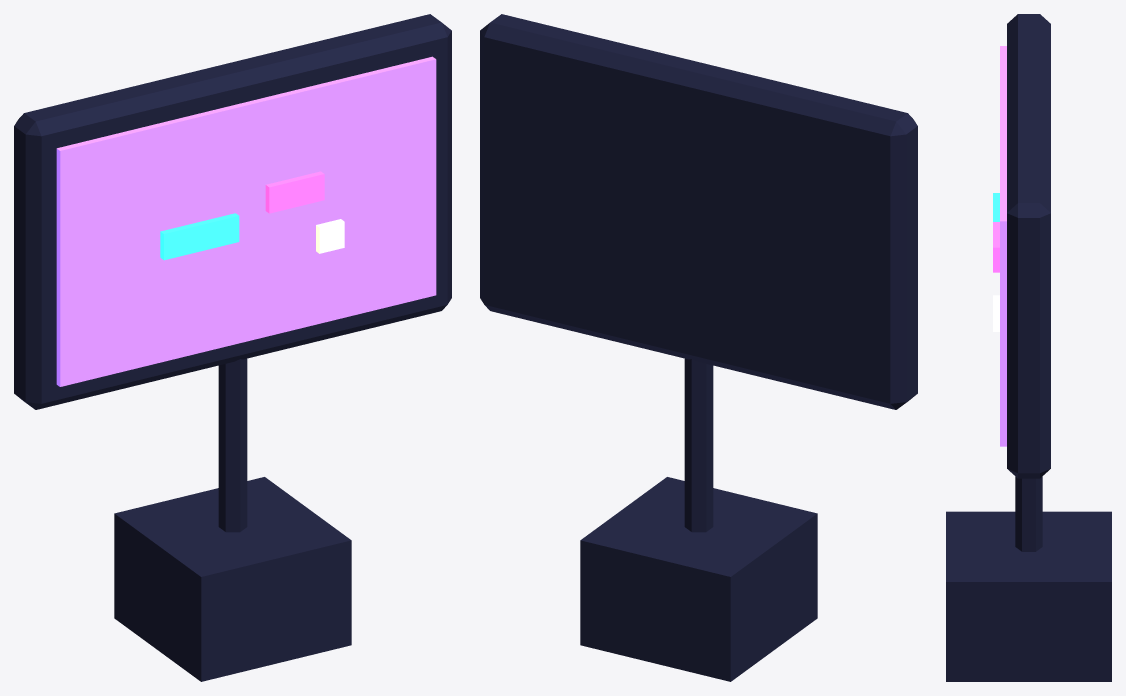
The model's file is hd_neon_sign.gltf.
3 views of the same model, side by side, from view 1: azimuth 30°, elevation 25°; view 2: azimuth 150°, elevation 25°; view 3: azimuth 270°, elevation 25° (orthographic). The views are drawn at different scales.
Visible parts, largest first — view 1: face, frame, base, strut, glyph0, glyph1, glyphDot; view 2: frame, base, strut; view 3: base, frame, face, strut, glyph1.
Boxes of the visible parts, x1,y1,x2,y2 form: face: (56,56,436,386); frame: (14,14,451,409); base: (114,477,351,681); strut: (218,358,247,532); glyph0: (160,213,239,260); glyph1: (265,171,324,213); glyphDot: (316,219,344,253); frame: (480,14,917,409); base: (580,477,817,681); strut: (684,358,713,532); base: (946,511,1111,681); frame: (1007,14,1050,478); face: (1000,46,1006,446); strut: (1015,476,1042,551); glyph1: (993,222,999,272).
Size of the model in its own units: 1.7 by 2.15 by 0.6.
